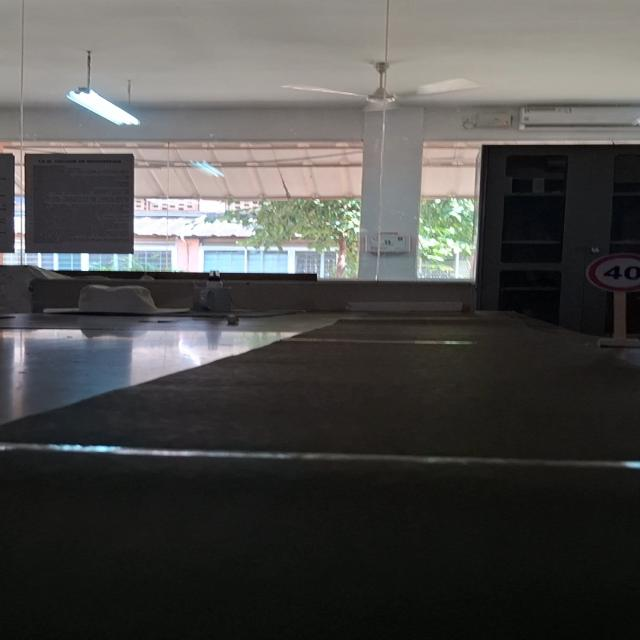Speed40: (582, 250, 640, 294)
